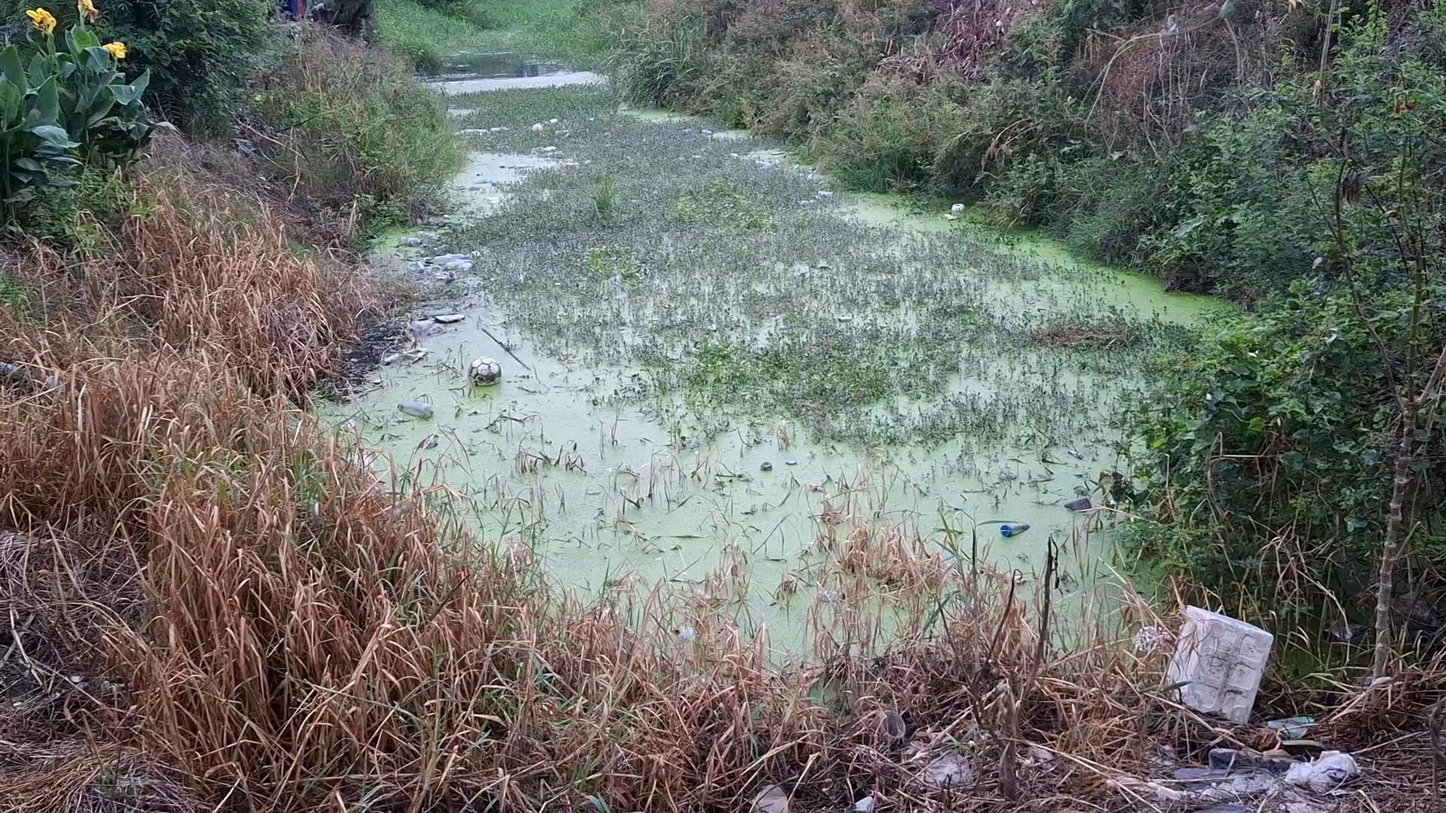ignore: (707, 272, 1214, 421), (543, 190, 877, 394), (458, 72, 739, 251)
trash: (418, 249, 482, 285), (455, 353, 513, 390), (984, 511, 1036, 544), (744, 450, 804, 478), (390, 393, 440, 422), (926, 197, 975, 226), (395, 224, 450, 249), (1056, 497, 1105, 522), (432, 309, 474, 329)
